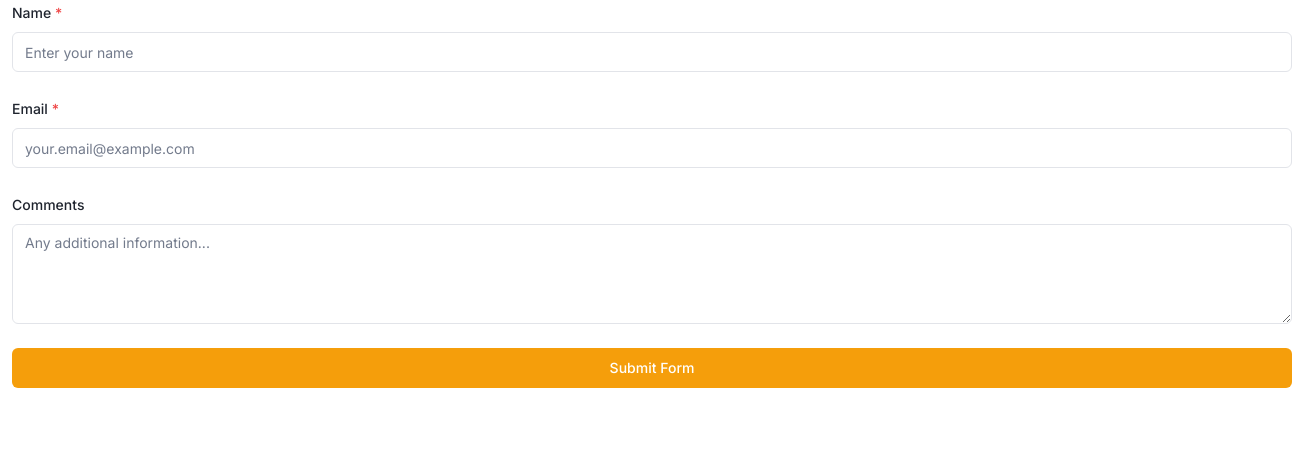
it: DynamicForm › validates required fields
Submit the form without filling required fields
Click the button "Submit Form". click: (652, 368)
box: [12, 348, 1292, 388]
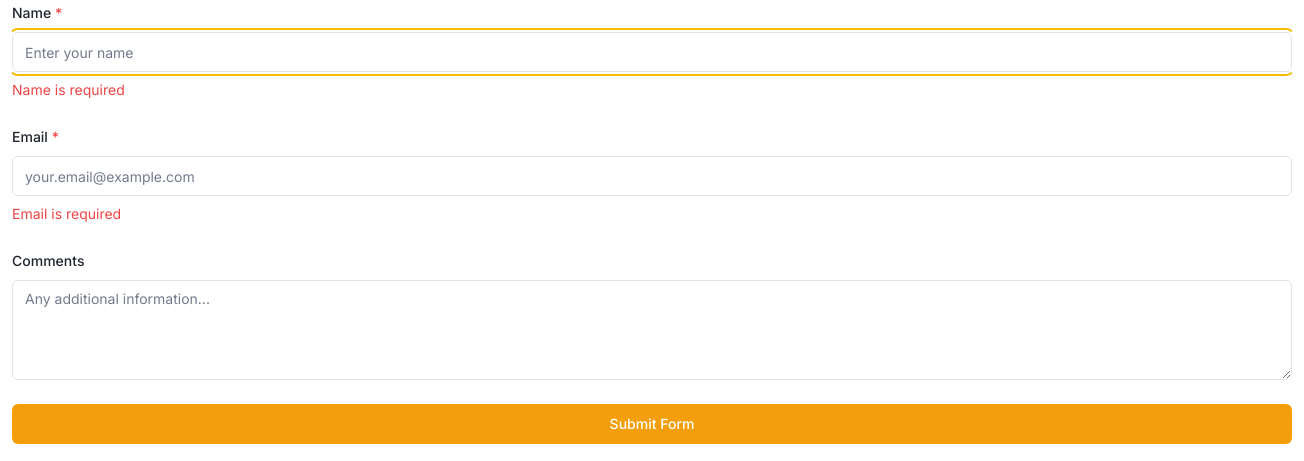
Check: the text "Name is required" is shown, box [12, 81, 125, 98]
Check: the text "Email is required" is shown, box [12, 205, 121, 222]
